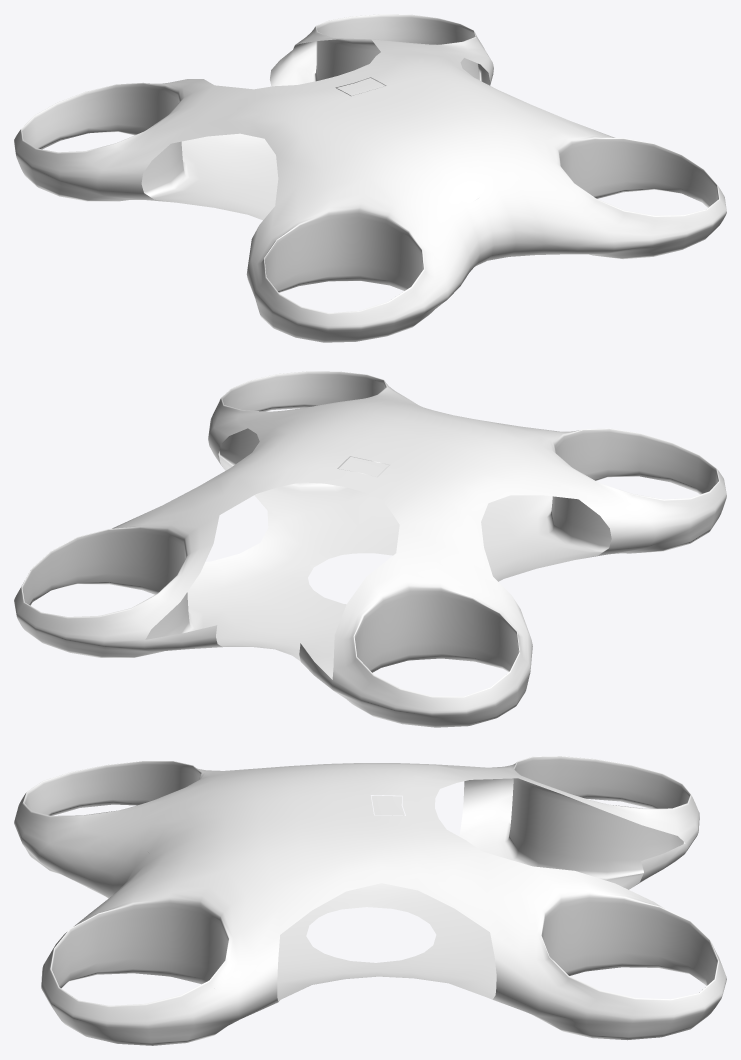
The model's file is droneWhite.glb.
3 renders of one model, top to bottom at view 1: azimuth 30°, elevation 25°; view 2: azimuth 150°, elevation 25°; view 3: azimuth 270°, elevation 25°, orthographic. The views are drawn at different scales.
Parts seen in each view (by area): view 1: Plane.002; view 2: Plane.002; view 3: Plane.002.
Part boxes in pixels (x1,y1,x2,y2): Plane.002: (14, 14, 726, 342); Plane.002: (14, 371, 726, 727); Plane.002: (14, 756, 726, 1045).
Bounding box in the file's own units: 11.5 × 2.68 × 13.13.
Materials: 1 (1 with a texture image).
